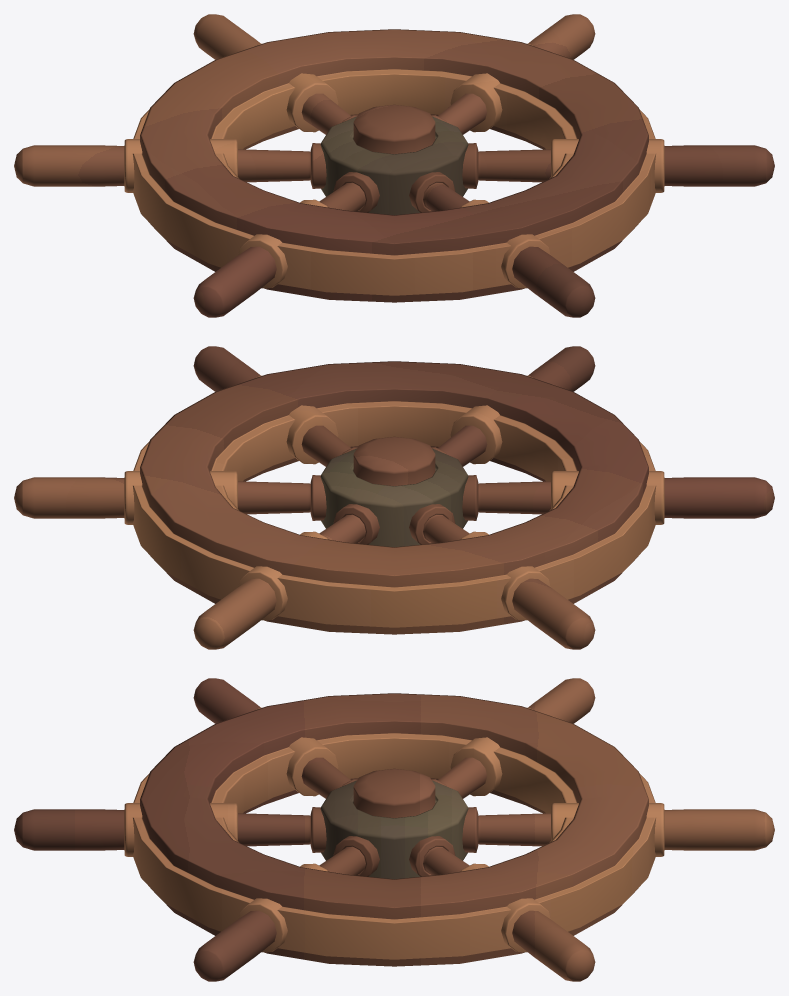
The model's file is model_steeringwheel_01.fbx.
The picture shows the model from 3 angles, top to bottom: view 1: azimuth 30°, elevation 25°; view 2: azimuth 150°, elevation 25°; view 3: azimuth 270°, elevation 25°; orthographic projection.
Parts seen in each view (by area): view 1: steering_geo; view 2: steering_geo; view 3: steering_geo.
Part boxes in pixels (left/top/right/bottom): steering_geo: left=14, top=14, right=774, bottom=317; steering_geo: left=14, top=346, right=774, bottom=649; steering_geo: left=14, top=678, right=774, bottom=981.
Bounding box in the file's own units: 14.68 × 2.33 × 16.78.
